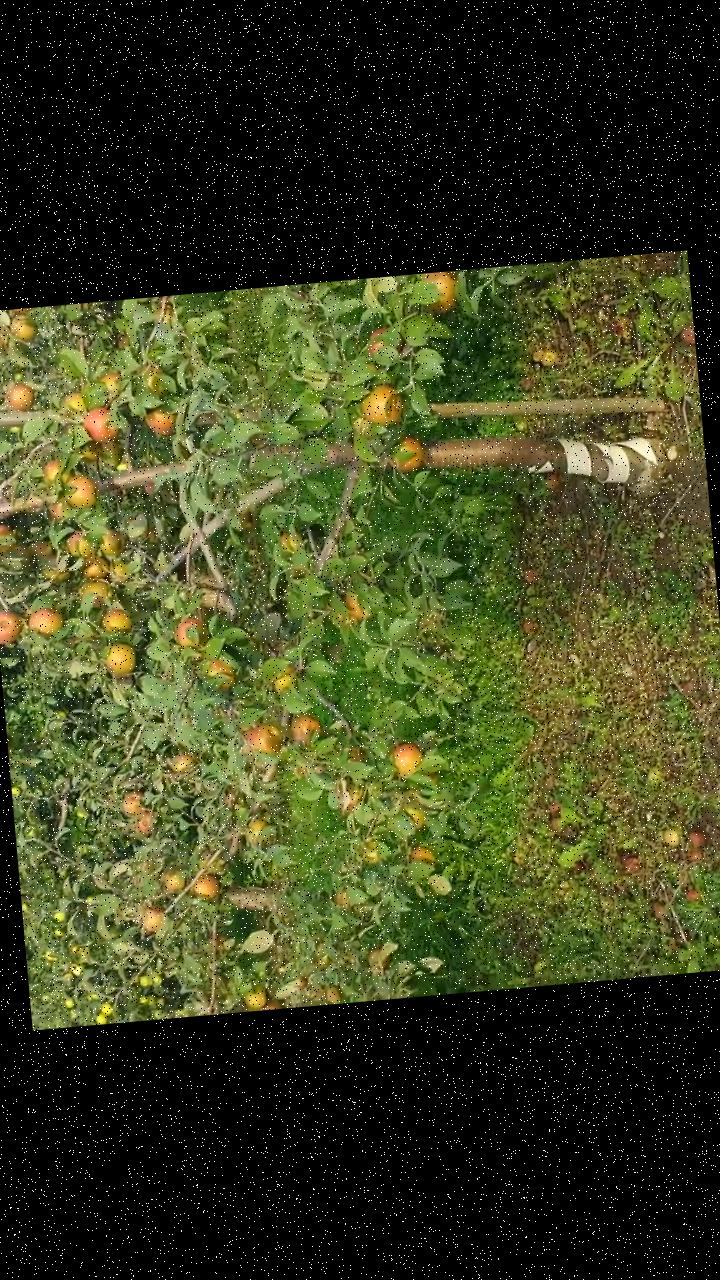Apple: (420, 271, 460, 318), (358, 383, 400, 424), (384, 742, 421, 779), (62, 474, 98, 512), (244, 724, 283, 759), (78, 406, 115, 442), (172, 616, 209, 649), (26, 608, 66, 638), (392, 434, 422, 474), (202, 657, 236, 691), (0, 543, 35, 575), (78, 576, 110, 611), (142, 407, 176, 439), (2, 382, 34, 414), (102, 643, 134, 675), (8, 312, 40, 343), (96, 437, 125, 470), (189, 871, 222, 900), (38, 559, 72, 586), (343, 591, 372, 622), (290, 713, 320, 742), (65, 533, 96, 561), (0, 610, 22, 649), (56, 392, 86, 420), (96, 371, 123, 402), (139, 364, 164, 397), (98, 609, 132, 633), (401, 804, 429, 833), (24, 539, 57, 563), (269, 663, 295, 692), (364, 328, 389, 358), (405, 846, 436, 870), (366, 944, 392, 972), (241, 984, 270, 1008), (167, 751, 195, 775), (278, 529, 302, 557), (76, 440, 100, 465), (160, 870, 185, 894), (78, 557, 105, 579), (342, 786, 363, 814), (98, 530, 120, 556), (246, 818, 266, 846), (142, 907, 164, 932), (134, 810, 154, 836), (39, 456, 58, 482), (360, 839, 378, 866), (343, 743, 364, 765), (121, 791, 142, 812), (107, 560, 127, 580), (0, 524, 15, 550), (46, 502, 62, 522), (255, 999, 283, 1010), (324, 984, 340, 1002), (0, 325, 8, 353), (142, 484, 154, 498)
